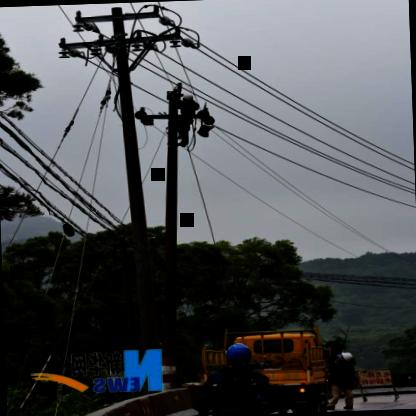helmet: (220, 336, 264, 368), (335, 349, 358, 366), (177, 91, 195, 104)
